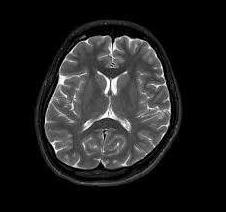Normal_Brain: (1, 1, 226, 212)
